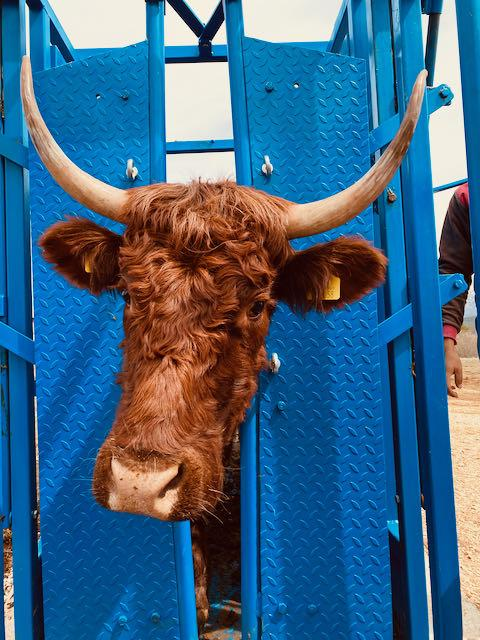muzzles: (87, 448, 203, 528)
